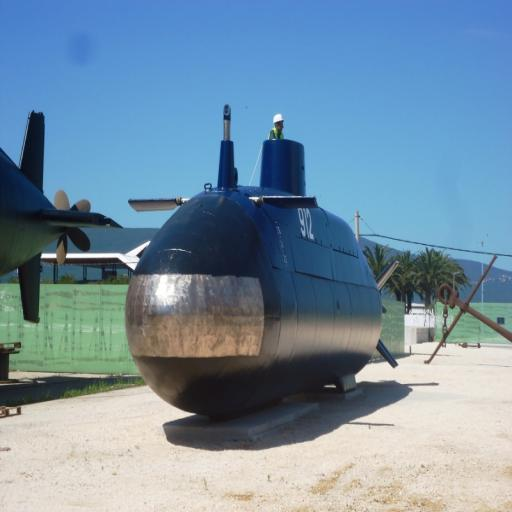submarine: (122, 102, 439, 414), (2, 106, 105, 322)
